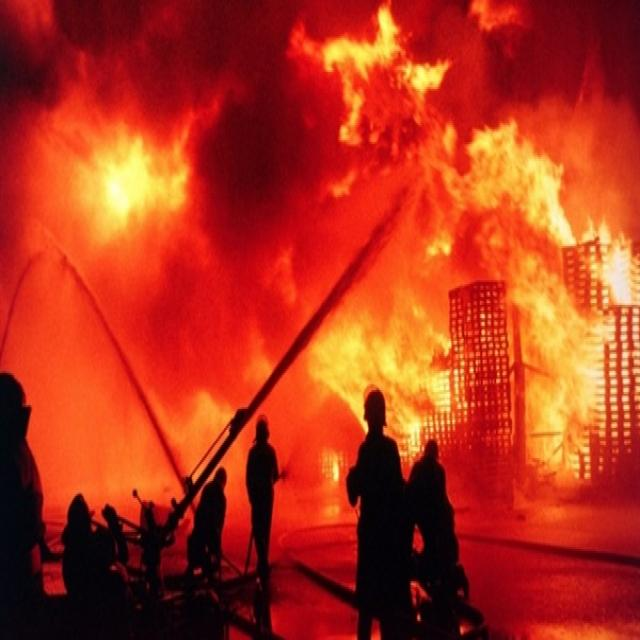Fire: (26, 23, 224, 335), (480, 167, 636, 506), (294, 8, 470, 174), (315, 341, 466, 432), (393, 231, 447, 432), (469, 123, 541, 210)
